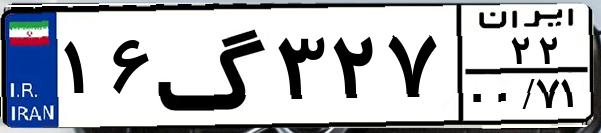0: (470, 70, 495, 125), (495, 70, 520, 125)
1: (57, 26, 110, 100), (560, 70, 590, 125)
2: (330, 28, 385, 110), (537, 27, 568, 80), (508, 27, 537, 80)
3: (270, 28, 330, 110)
6: (110, 28, 156, 98)
7: (385, 28, 445, 110), (535, 70, 560, 125)
گ: (156, 12, 270, 120)
